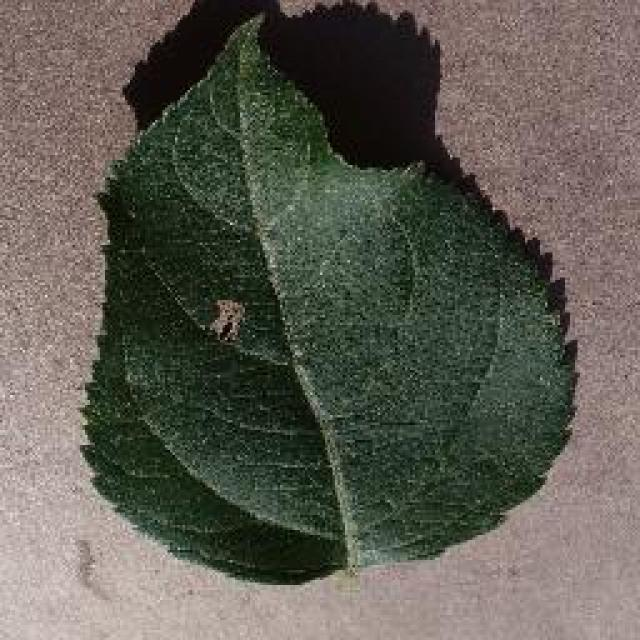apple healthy: (78, 0, 580, 585)
